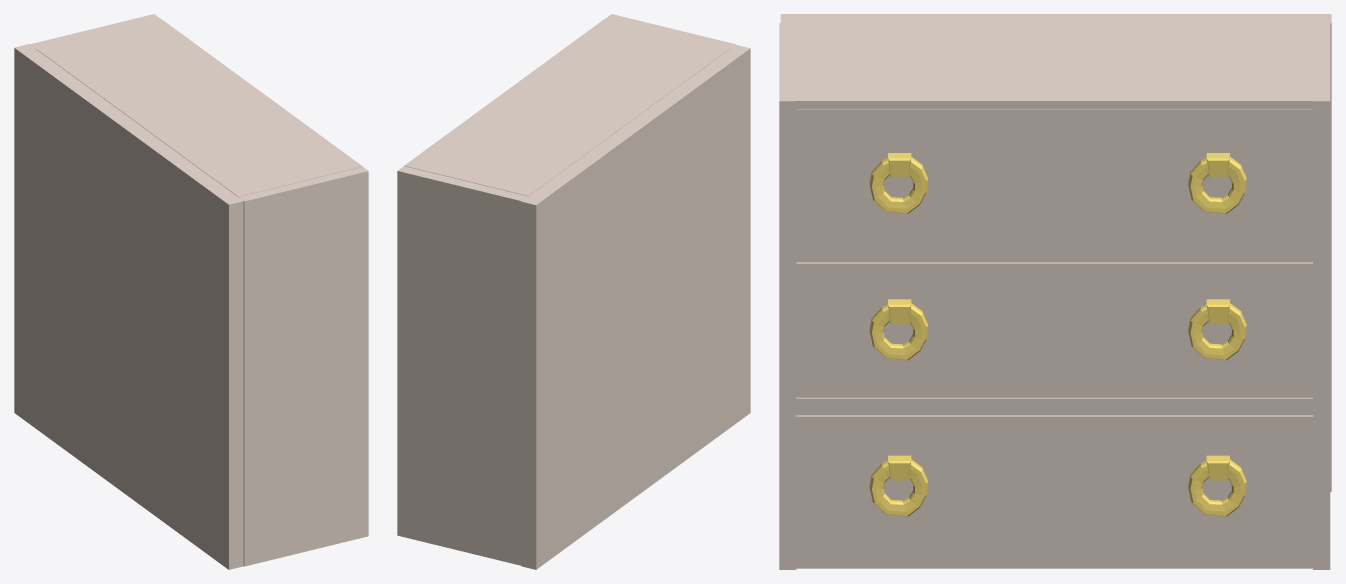
File: Shelf_1.fbx
3 renders of one model, left to right at view 1: azimuth 30°, elevation 25°; view 2: azimuth 150°, elevation 25°; view 3: azimuth 270°, elevation 25°, orthographic. The views are drawn at different scales.
Parts seen in each view (by area): view 1: Shelf_1; view 2: Shelf_1; view 3: Shelf_1.
Part boxes in pixels (bbox=[...]): Shelf_1: bbox=[14, 14, 368, 569]; Shelf_1: bbox=[397, 14, 750, 569]; Shelf_1: bbox=[779, 14, 1331, 569].
Bounding box in the file's own units: 70.59 × 174 × 163.
